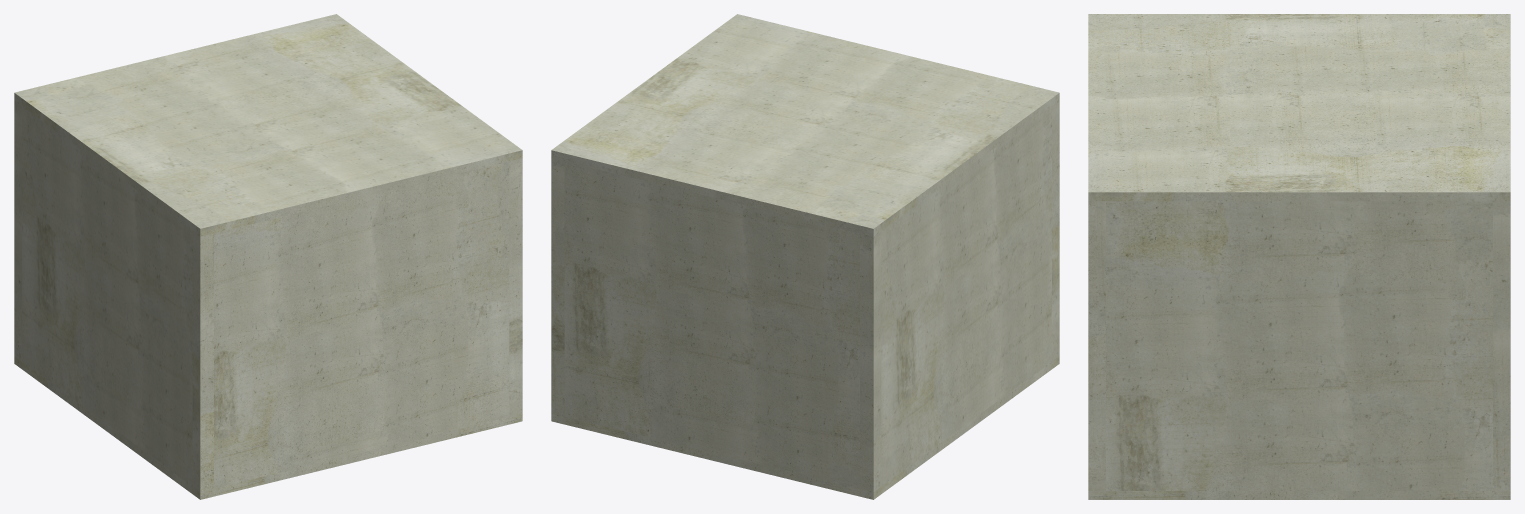
The model's file is Hallway.fbx.
3 renders of one model, left to right at view 1: azimuth 30°, elevation 25°; view 2: azimuth 150°, elevation 25°; view 3: azimuth 270°, elevation 25°, orthographic. The views are drawn at different scales.
Visible parts, largest first — view 1: Wall.003, Wall.004, Wall.001, Wall.006, Wall.002, Wall.007, Wall.008; view 2: Wall.010, Wall.004, Wall.001, Wall.008, Wall.002, Wall.005, Wall.006; view 3: Wall.009, Wall.004, Wall.005, Wall.007, Wall.002.
Part boxes in pixels (x1,y1,x2,y2): Wall.003: (214,161,509,488); Wall.004: (14,14,522,236); Wall.001: (22,106,192,485); Wall.006: (192,231,213,491); Wall.002: (14,356,522,499); Wall.007: (509,158,522,416); Wall.008: (14,101,21,360); Wall.010: (564,161,859,488); Wall.004: (551,14,1059,236); Wall.001: (881,106,1051,485); Wall.008: (860,231,881,491); Wall.002: (551,356,1059,499); Wall.005: (551,158,564,416); Wall.006: (1052,101,1059,360); Wall.009: (1106,201,1492,490); Wall.004: (1088,14,1510,201); Wall.005: (1493,201,1510,490); Wall.007: (1088,201,1105,490); Wall.002: (1088,491,1510,499).
Bounding box in the file's own units: 102 × 82.29 × 102.
6 materials, 3 textured.
